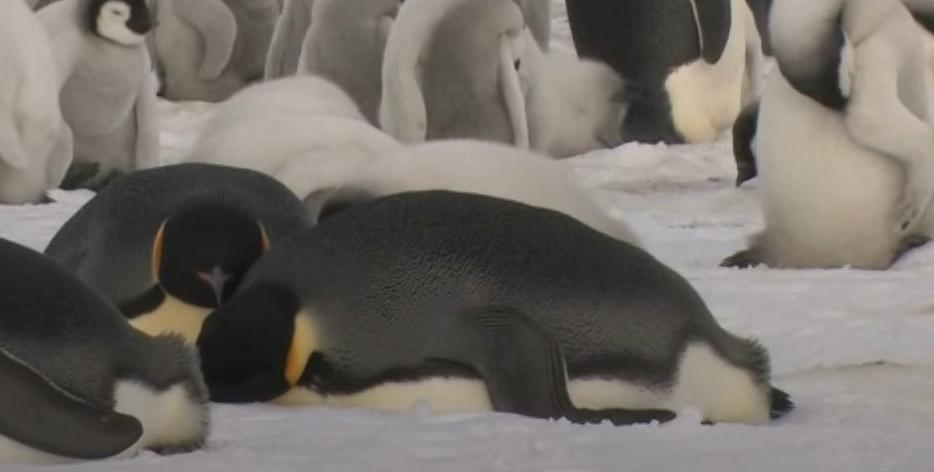Emperor Penguin: (190, 190, 820, 412), (0, 210, 213, 471), (28, 158, 304, 304), (548, 0, 756, 144), (0, 88, 10, 236)
